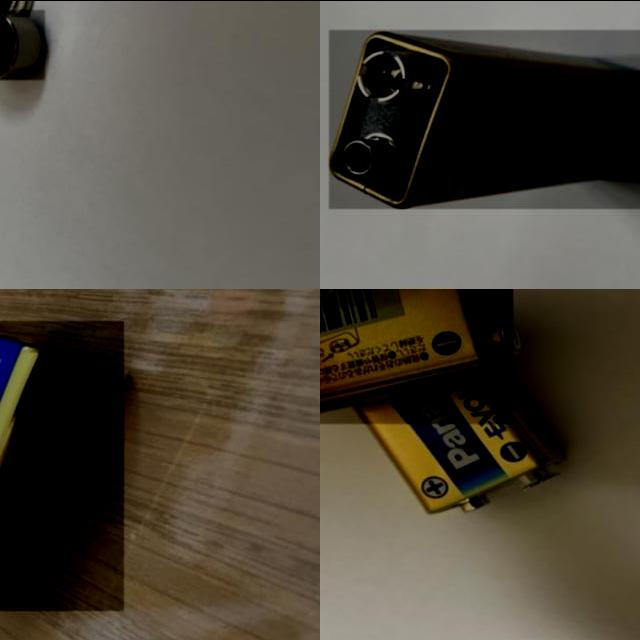9V: (329, 29, 640, 208), (0, 320, 124, 610), (353, 373, 558, 516), (320, 288, 513, 423)
